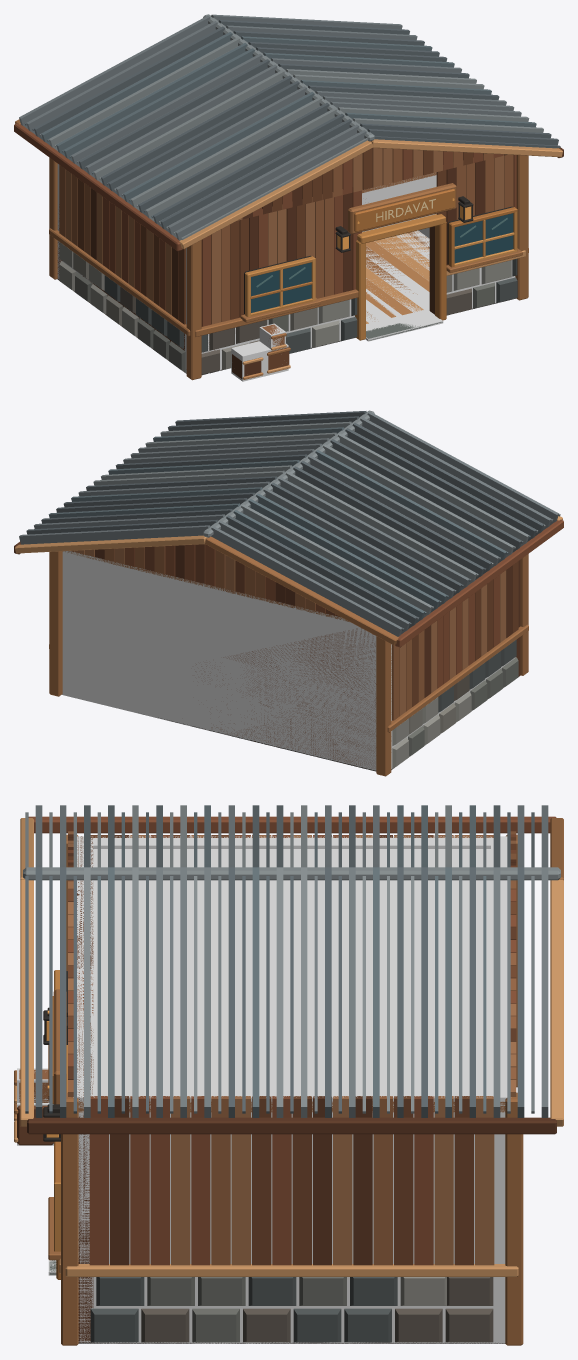
File: hardware_store.glb
The picture shows the model from 3 angles, top to bottom: view 1: azimuth 30°, elevation 25°; view 2: azimuth 150°, elevation 25°; view 3: azimuth 270°, elevation 25°; orthographic projection. The views are drawn at different scales.
Visible parts, largest first — view 1: Roof, Cladding, Stonework, Windows, Frame, Fascia, Gables, Shell-col, Floorboards, Doorframe, Sign, Roof seams (+6 smaller); view 2: Roof, Shell-col, Cladding, Frame, Fascia, Gables, Stonework, Walls, Roof seams, Ceiling, Ceiling-col; view 3: Cladding, Ceiling-col, Roof, Roof seams, Stonework, Shell-col, Fascia, Frame, Gables, Walls, Windows, Crates (+1 smaller).
Part boxes in pixels (<box>): Roof: <box>19,14,558,240</box>; Cladding: <box>59,154,516,326</box>; Stonework: <box>59,242,517,374</box>; Windows: <box>240,206,522,322</box>; Frame: <box>49,155,528,380</box>; Fascia: <box>14,119,563,251</box>; Gables: <box>237,148,507,220</box>; Shell-col: <box>57,164,515,374</box>; Floorboards: <box>366,230,429,323</box>; Doorframe: <box>355,214,446,340</box>; Sign: <box>348,183,456,234</box>; Roof seams: <box>25,25,560,239</box>; Roof: <box>19,410,558,636</box>; Shell-col: <box>62,551,515,771</box>; Cladding: <box>392,561,518,720</box>; Frame: <box>49,551,528,776</box>; Fascia: <box>14,516,563,647</box>; Gables: <box>71,544,340,616</box>; Stonework: <box>392,639,518,768</box>; Walls: <box>195,560,520,765</box>; Roof seams: <box>221,415,560,630</box>; Ceiling: <box>65,551,348,621</box>; Ceiling-col: <box>65,551,351,622</box>; Cladding: <box>72,835,494,1265</box>; Ceiling-col: <box>79,849,505,1112</box>; Roof: <box>23,805,560,1117</box>; Roof seams: <box>25,812,534,1113</box>; Stonework: <box>90,1277,493,1342</box>; Shell-col: <box>73,836,507,1343</box>; Fascia: <box>20,816,563,1134</box>; Frame: <box>59,834,523,1345</box>; Gables: <box>68,831,516,1096</box>; Walls: <box>77,836,93,1342</box>; Windows: <box>48,970,67,1260</box>; Crates: <box>14,1069,53,1145</box>.
Size of the model in its own units: 9.3 by 4.92 by 7.07.
